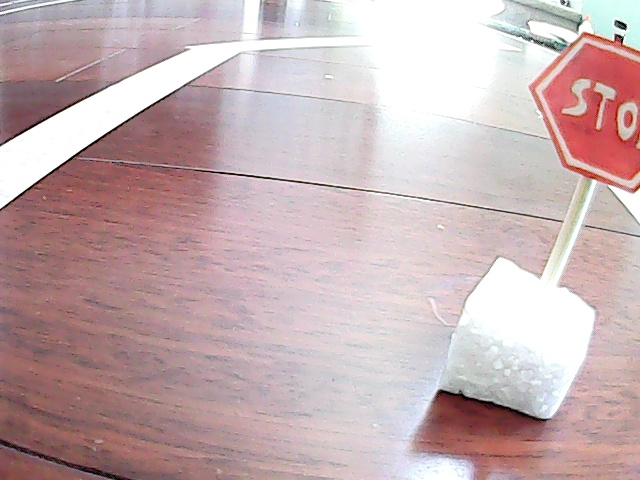stop: (510, 24, 640, 407)
